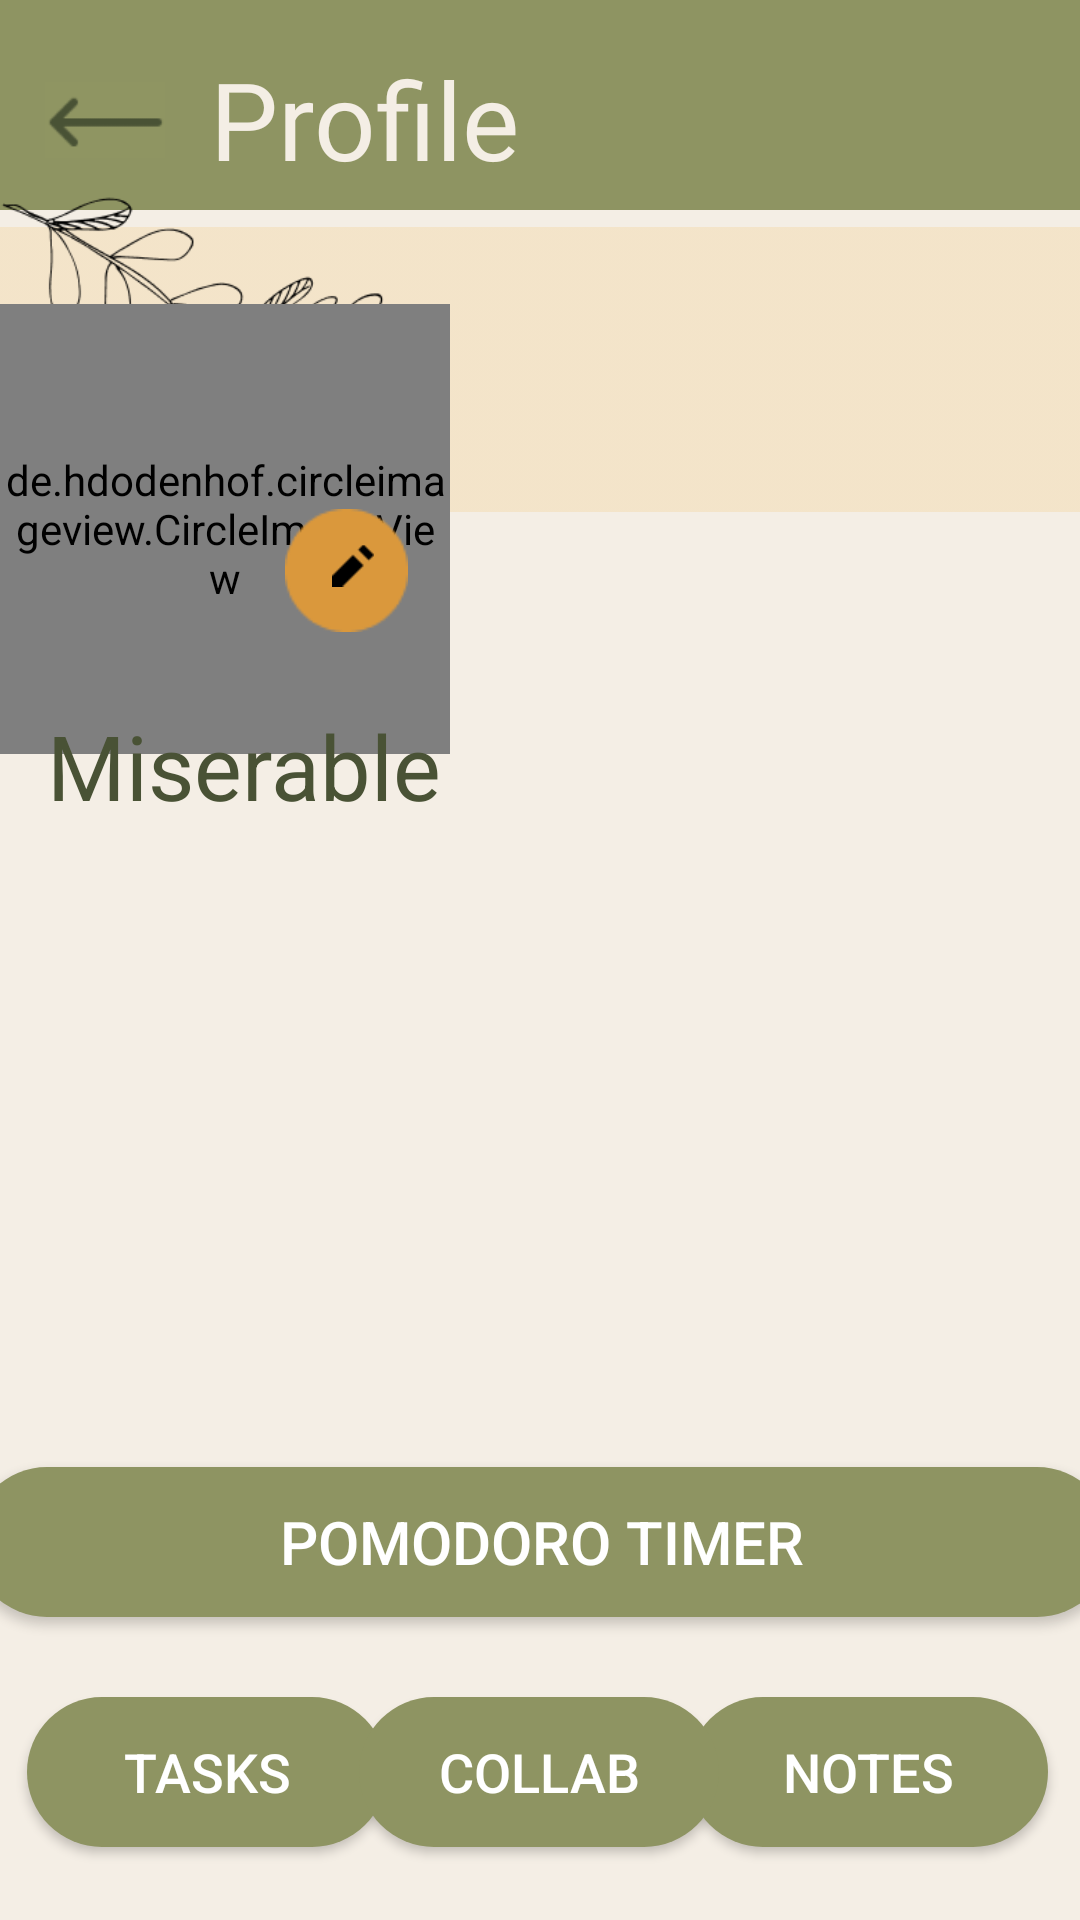

Icons on this 1080*1920 Android screen, each with the point to tap as point (x, y):
arrowback: point (106, 122)
